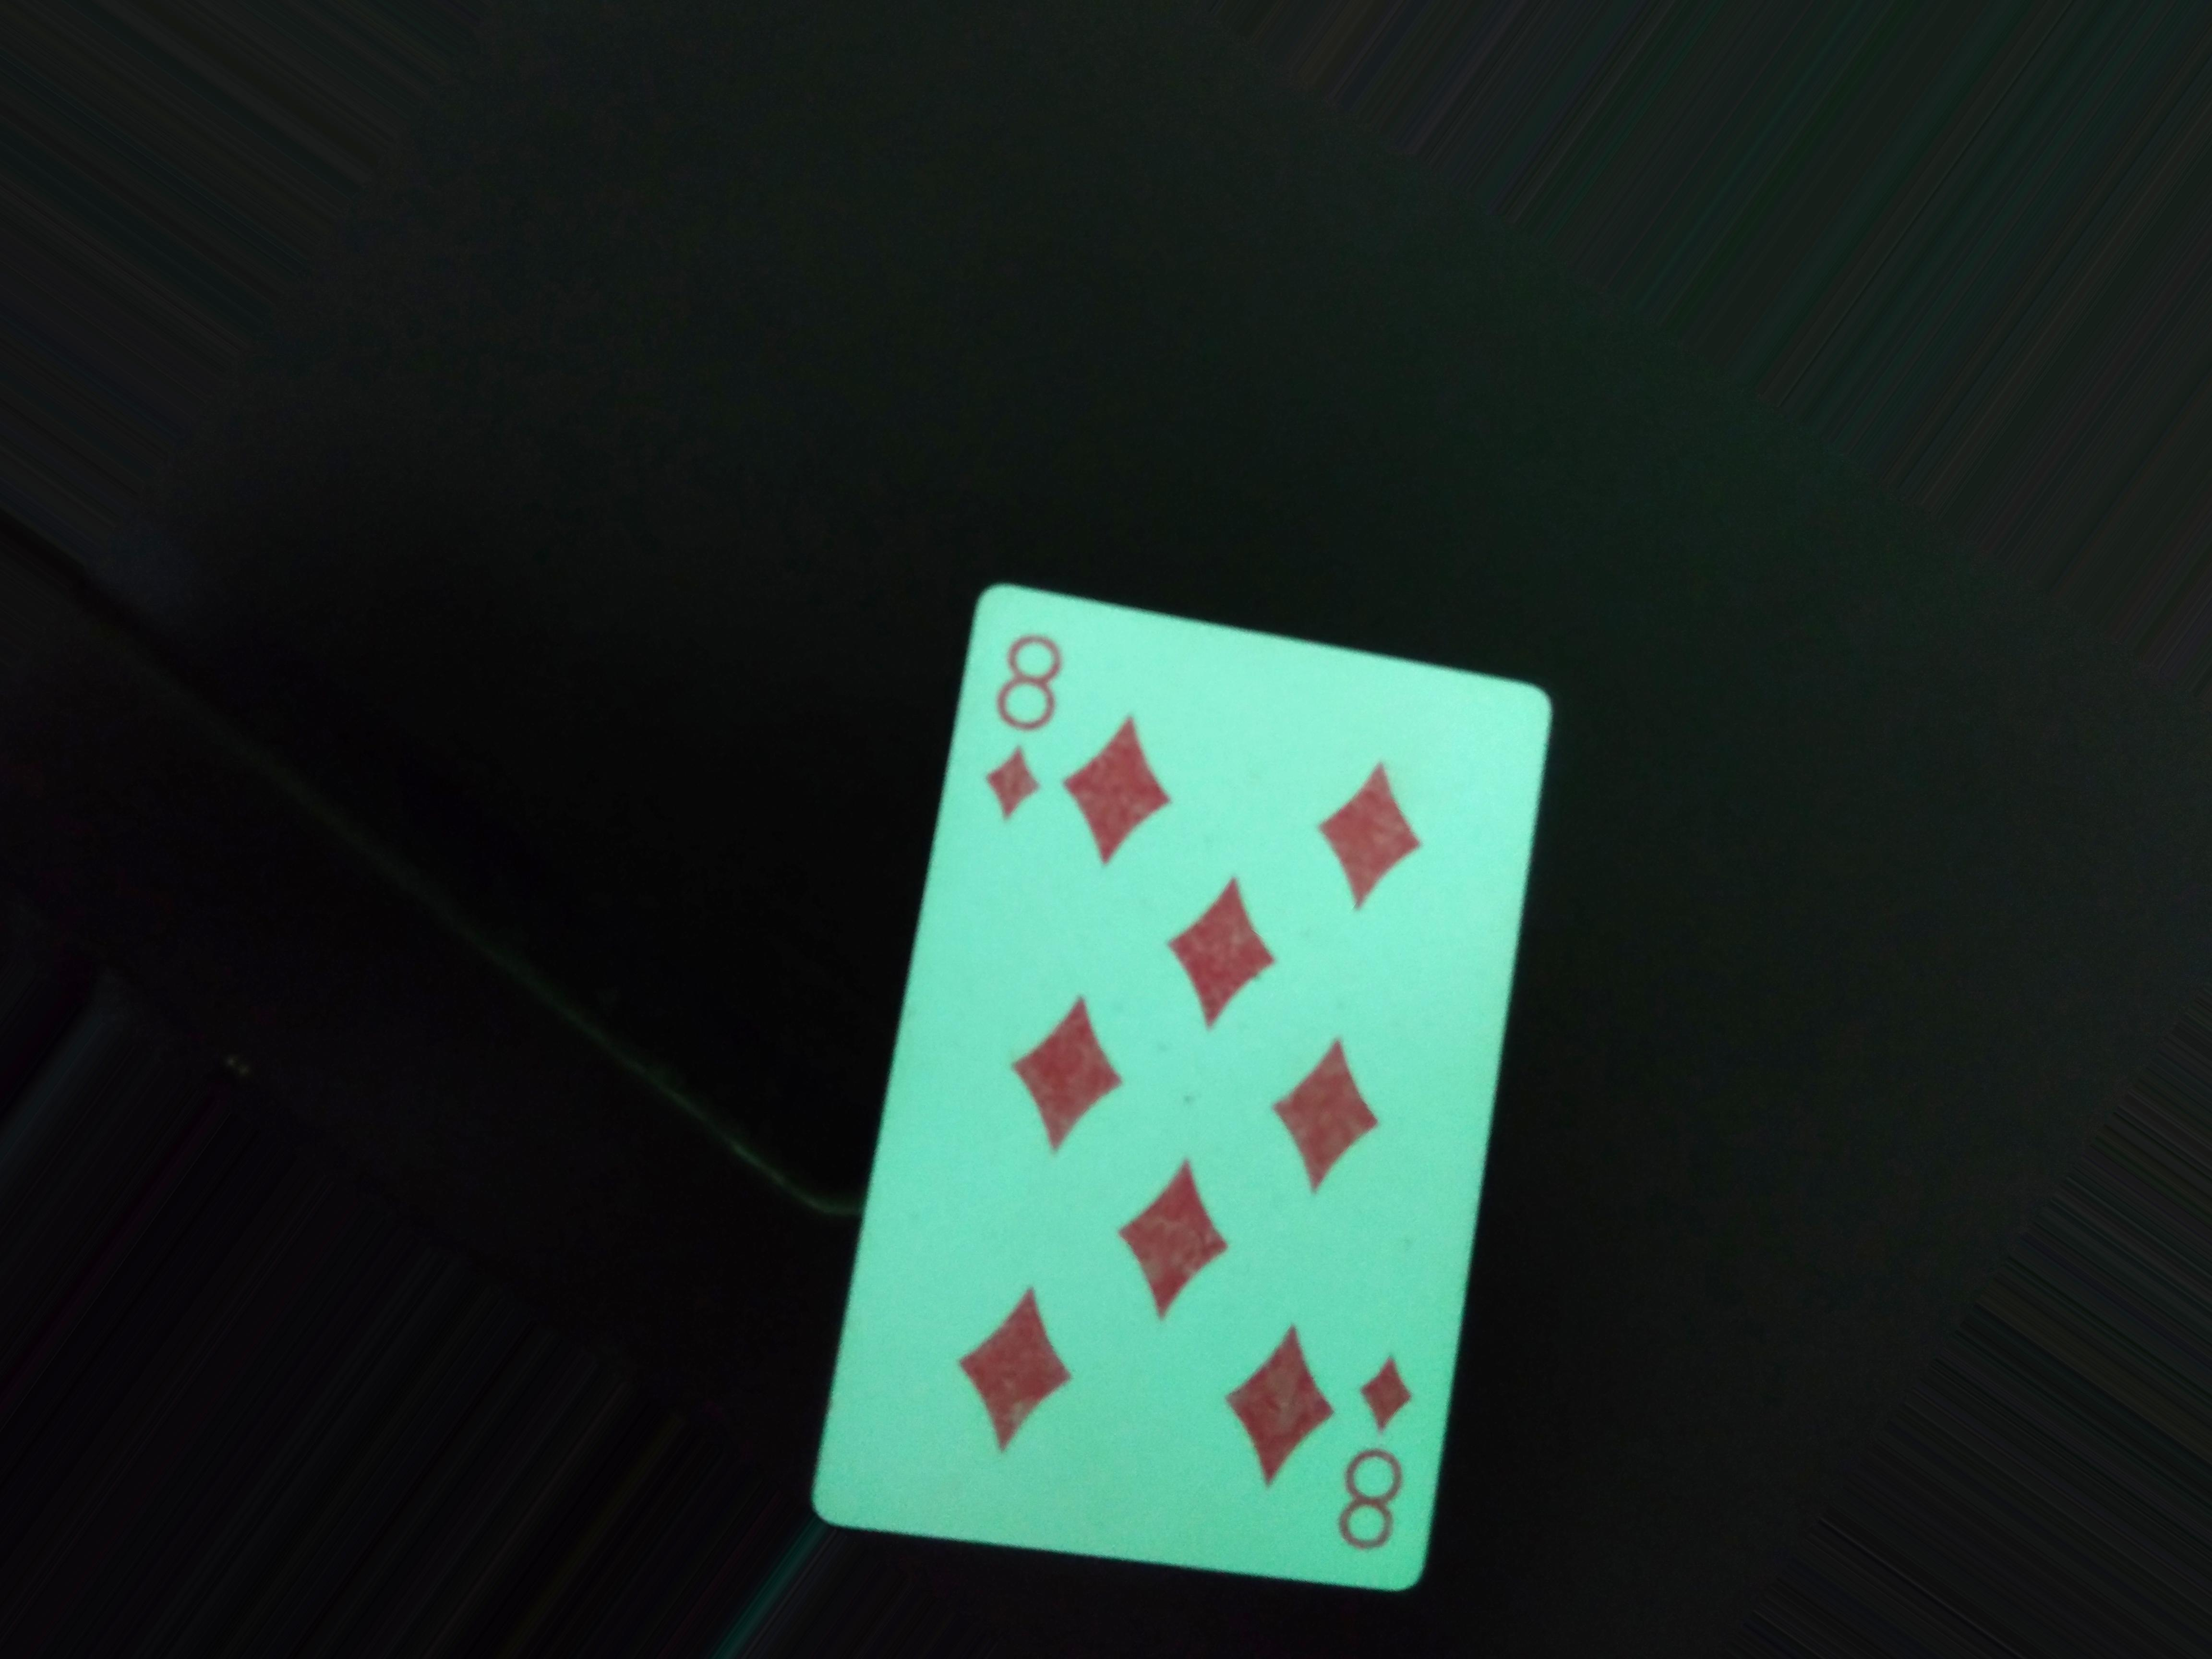8D: (981, 596, 1068, 840)
